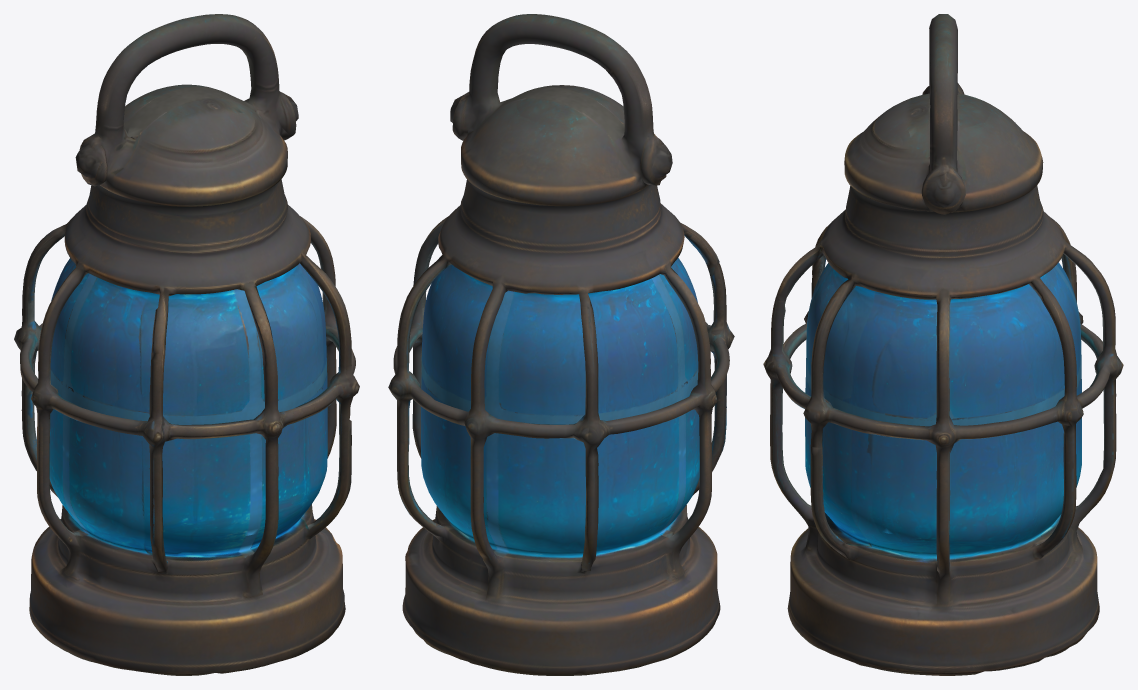
File: Wantern.fbx
3 views of the same model, side by side, from view 1: azimuth 30°, elevation 25°; view 2: azimuth 150°, elevation 25°; view 3: azimuth 270°, elevation 25° (orthographic).
Visible parts, largest first — view 1: input; view 2: input; view 3: input.
Boxes of the visible parts, bbox=[...] form: input: bbox=[14, 14, 359, 675]; input: bbox=[388, 14, 734, 675]; input: bbox=[763, 14, 1123, 675].
Bounding box in the file's own units: 109 × 200 × 112.
Materials: 1 (1 with a texture image).
